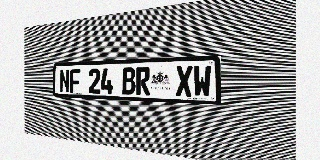2: (89, 68, 100, 94)
4: (101, 68, 113, 94)
B: (122, 67, 135, 95)
F: (70, 69, 80, 93)
N: (60, 69, 69, 93)
R: (136, 67, 150, 95)
W: (193, 65, 211, 97)
X: (176, 66, 193, 97)
